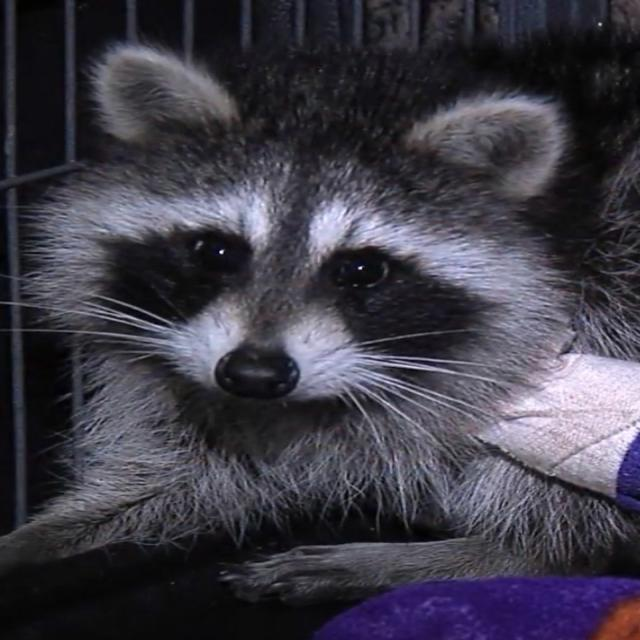raccoon: (1, 23, 640, 602)
